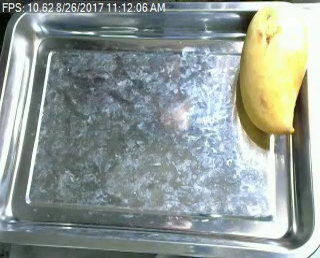Mango: (235, 6, 308, 137)
